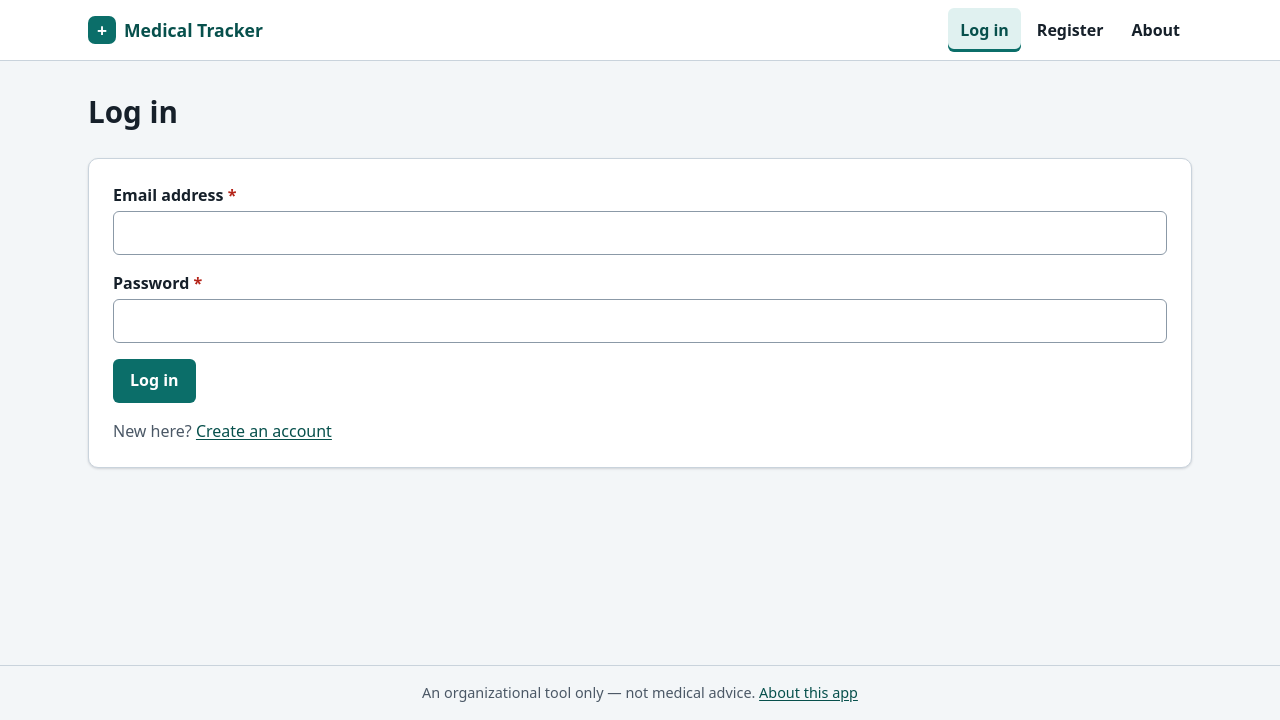
Scenario: login › TC-PRV-003-03 — The informational page is reachable from authenticated navigation
Type "person@example.com" into the field labelled "Email address *". click: (640, 233)
box: [113,211,1167,255]
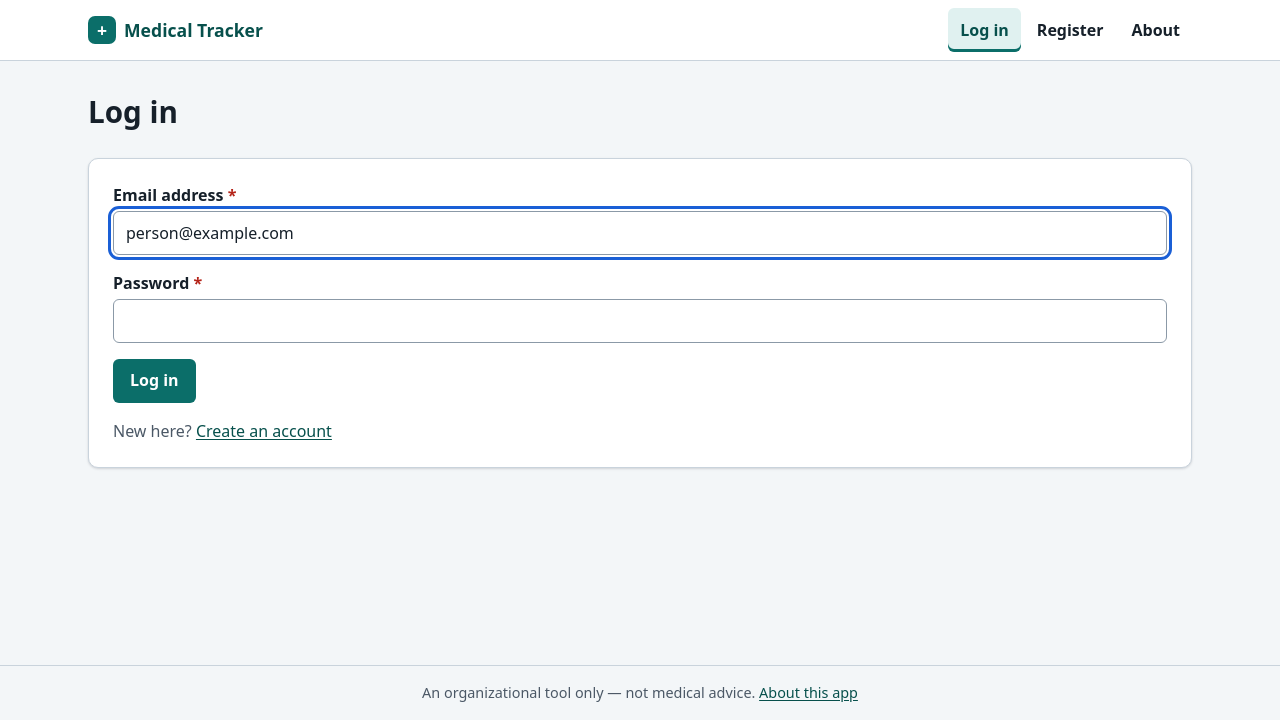
Type "correct-horse-battery" into the password field labelled "Password *". click: (640, 321)
box: [113,299,1167,343]
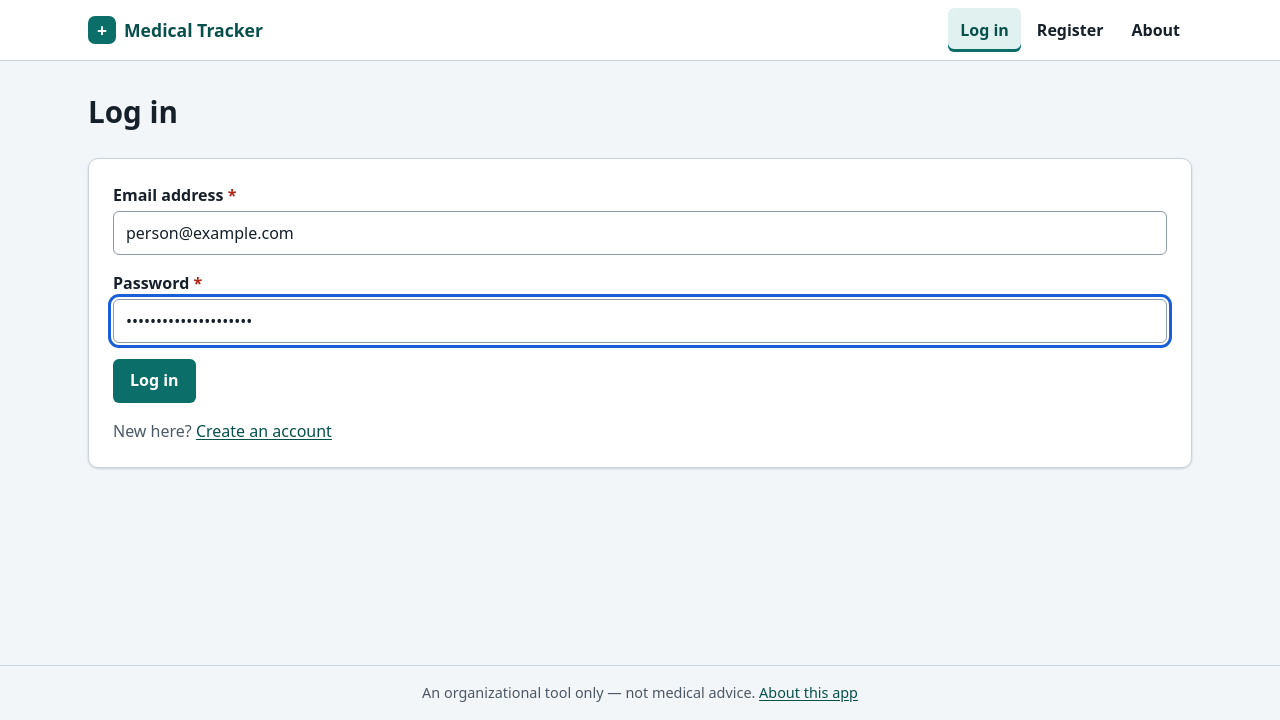
Click the button "Log in". click: (154, 381)
box: [113,359,196,403]
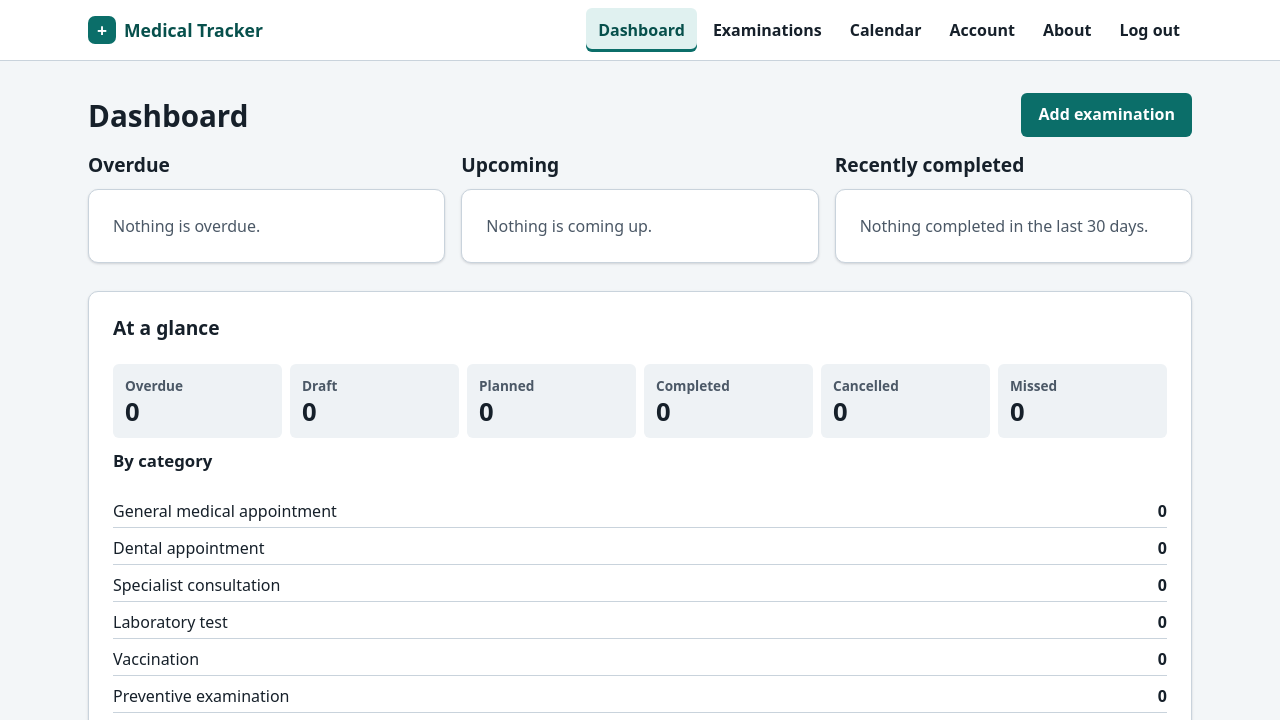
Expected: the heading "Dashboard" is shown, [88,96,248,134]
Expected: the link "Dashboard" is shown, [586,8,697,52]
Click the link "About". click: (1067, 30)
box: [1043,19,1091,41]
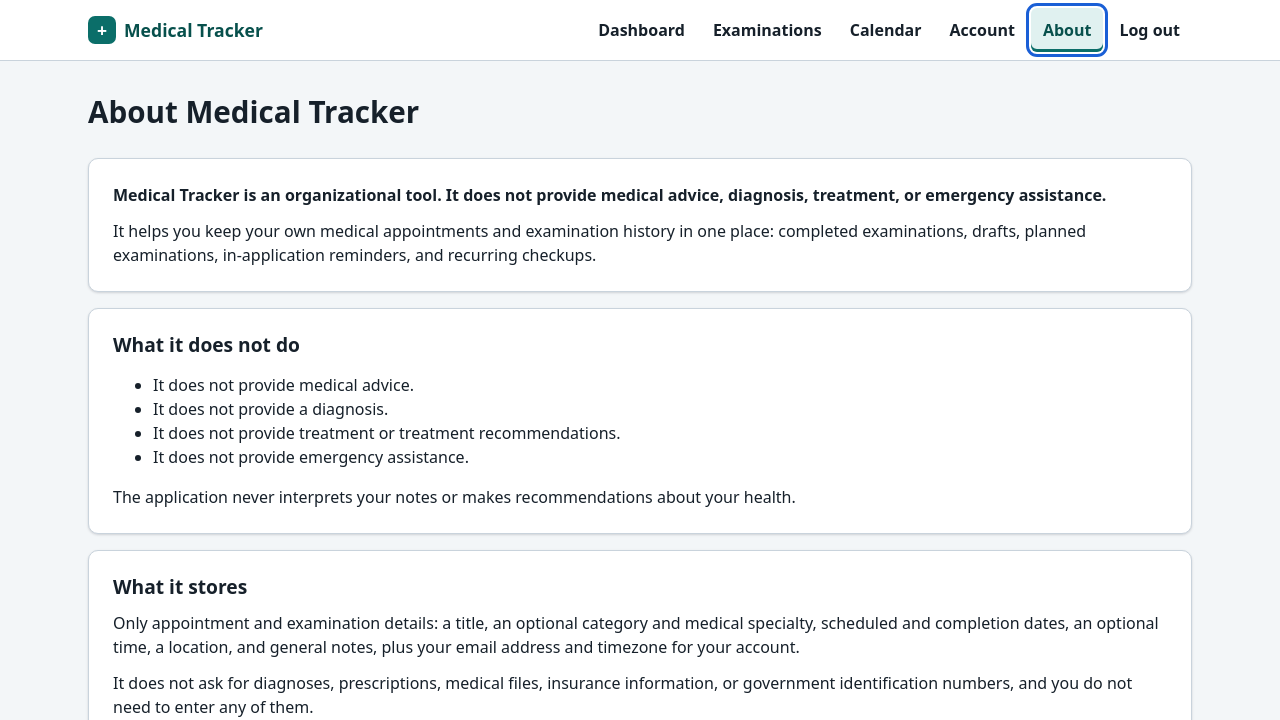
Expected: the heading "About Medical Tracker" is shown, [88,91,419,132]
Expected: the text "is an organizational tool" is shown, [113,184,1106,206]
